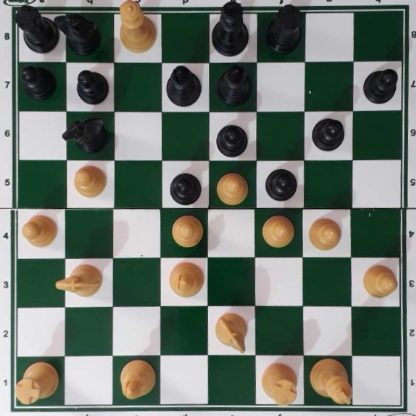black-bishop: (165, 65, 202, 106), (216, 65, 253, 105)
black-king: (212, 1, 250, 57)
black-knight: (53, 12, 102, 55), (65, 115, 106, 153)
black-pawn: (362, 67, 399, 104), (21, 64, 56, 99), (215, 120, 249, 156), (312, 116, 346, 151), (76, 67, 107, 104), (169, 170, 202, 204), (265, 166, 297, 201)
black-rook: (13, 3, 62, 54), (264, 5, 304, 54)
white-bishop: (119, 358, 154, 400), (168, 261, 204, 296)
white-king: (309, 356, 352, 406)
white-knight: (54, 263, 104, 298), (214, 311, 250, 353)
white-pawn: (360, 262, 397, 299), (20, 212, 57, 247), (308, 213, 342, 251), (73, 163, 107, 198), (213, 171, 249, 203), (261, 213, 294, 247), (171, 213, 203, 247)
white-queen: (119, 1, 156, 56)
white-rook: (14, 360, 60, 403), (261, 363, 299, 405)
